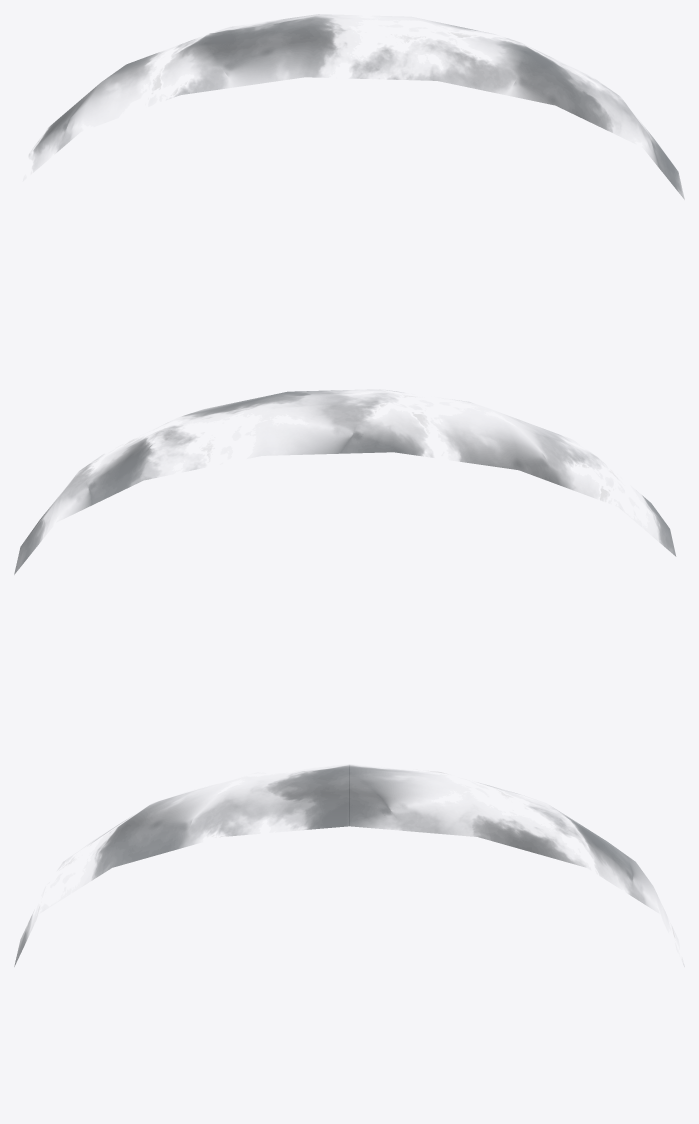
The model's file is dynamicSky.glb.
The picture shows the model from 3 angles, top to bottom: view 1: azimuth 30°, elevation 25°; view 2: azimuth 150°, elevation 25°; view 3: azimuth 270°, elevation 25°; orthographic projection.
Parts seen in each view (by area): view 1: dynamic_clouds.png__; view 2: dynamic_clouds.png__; view 3: dynamic_clouds.png__.
Boxes of the visible parts, x1=… form: dynamic_clouds.png__: x1=33, y1=14, x2=684, y2=199; dynamic_clouds.png__: x1=14, y1=390, x2=675, y2=574; dynamic_clouds.png__: x1=14, y1=765, x2=654, y2=966.
Size of the model in its own units: 412 by 99.44 by 412.
Materials: 1 (1 with a texture image).
